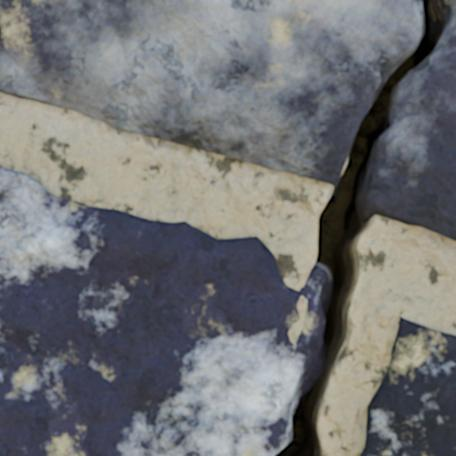brick: (0, 167, 311, 455), (361, 317, 455, 455)
broken_brick: (0, 0, 420, 183), (369, 0, 455, 241)
crack: (273, 0, 454, 455)
